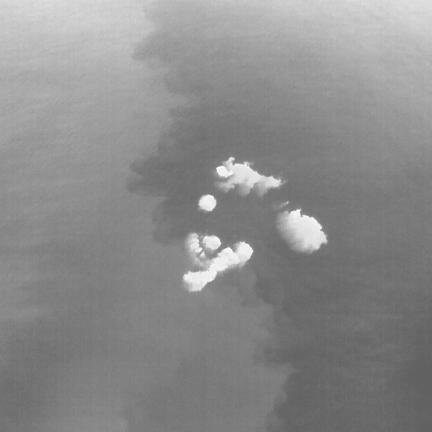flukeprints: (183, 242, 252, 291), (277, 209, 327, 252), (230, 164, 261, 194), (186, 233, 202, 253), (198, 195, 216, 211), (202, 235, 221, 250), (216, 165, 232, 177)
